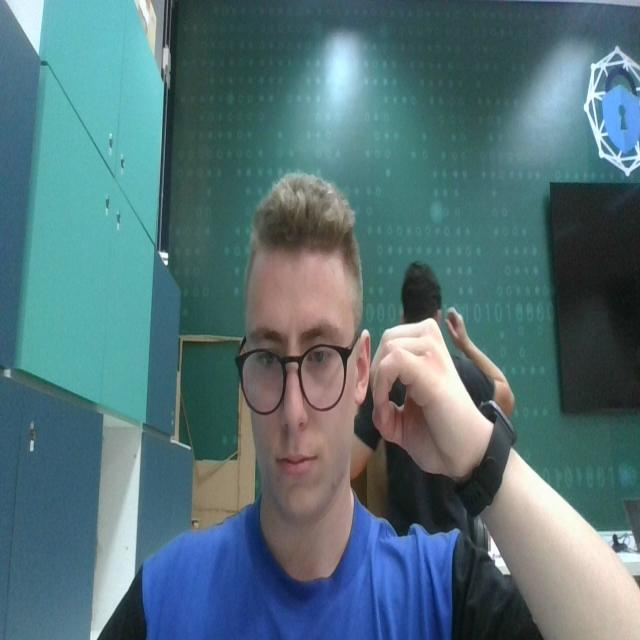O: (369, 316, 475, 473)
